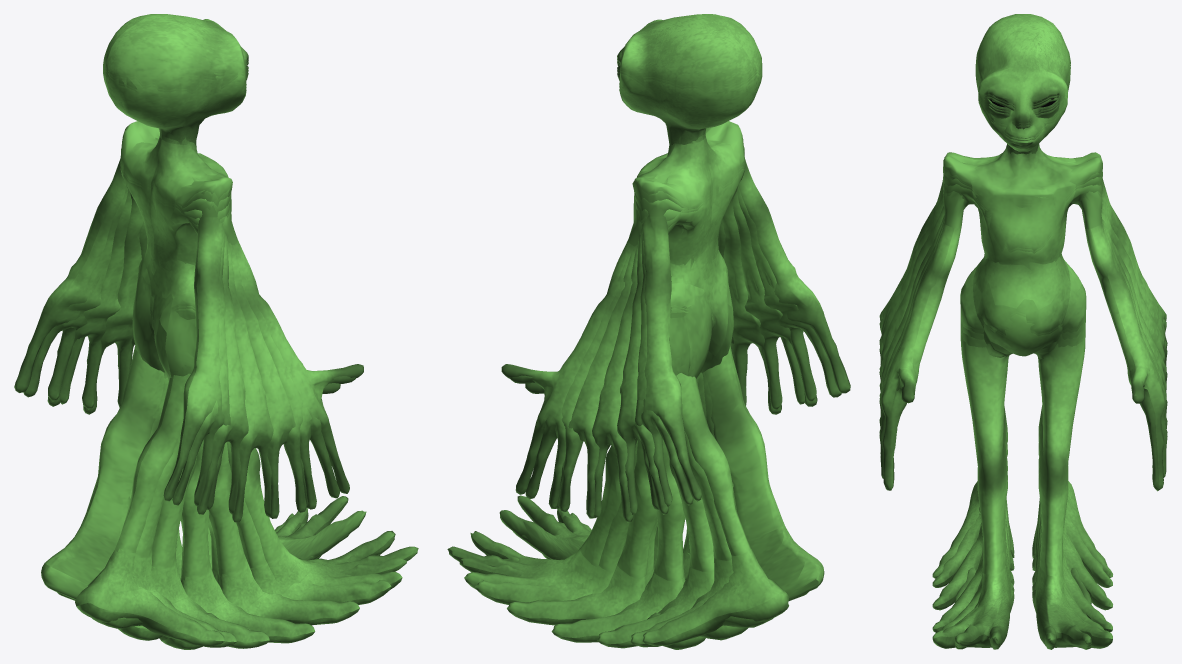
Rendered from mimozemstan.glb.
3 views of the same model, side by side, from view 1: azimuth 30°, elevation 25°; view 2: azimuth 150°, elevation 25°; view 3: azimuth 270°, elevation 25° (orthographic). The views are drawn at different scales.
Visible parts, largest first — view 1: mimozemstan_nohy_ruce_03, mimozemstan_nohy_ruce_09, mimozemstan_nohy_ruce_00, mimozemstan_telo_03, mimozemstan_nohy_ruce_07, mimozemstan_nohy_ruce_01, mimozemstan_nohy_ruce_08, mimozemstan_telo_00, mimozemstan_nohy_ruce_02, mimozemstan_telo_01, mimozemstan_telo_02; view 2: mimozemstan_nohy_ruce_09, mimozemstan_nohy_ruce_03, mimozemstan_nohy_ruce_00, mimozemstan_telo_03, mimozemstan_nohy_ruce_01, mimozemstan_nohy_ruce_07, mimozemstan_nohy_ruce_02, mimozemstan_telo_00, mimozemstan_nohy_ruce_08, mimozemstan_telo_01, mimozemstan_telo_02; view 3: mimozemstan_nohy_ruce_03, mimozemstan_nohy_ruce_09, mimozemstan_telo_03, mimozemstan_nohy_ruce_00, mimozemstan_nohy_ruce_01, mimozemstan_nohy_ruce_07, mimozemstan_telo_00, mimozemstan_nohy_ruce_02, mimozemstan_nohy_ruce_08, mimozemstan_telo_01, mimozemstan_telo_02.
Part boxes in pixels (x1=…): mimozemstan_nohy_ruce_03: x1=41, y1=164, x2=418, y2=599; mimozemstan_nohy_ruce_09: x1=14, y1=121, x2=366, y2=646; mimozemstan_nohy_ruce_00: x1=83, y1=160, x2=315, y2=649; mimozemstan_telo_03: x1=103, y1=14, x2=248, y2=307; mimozemstan_nohy_ruce_07: x1=47, y1=149, x2=340, y2=648; mimozemstan_nohy_ruce_01: x1=120, y1=165, x2=359, y2=625; mimozemstan_nohy_ruce_08: x1=23, y1=139, x2=356, y2=647; mimozemstan_telo_00: x1=103, y1=61, x2=248, y2=315; mimozemstan_nohy_ruce_02: x1=57, y1=165, x2=406, y2=604; mimozemstan_telo_01: x1=103, y1=59, x2=248, y2=310; mimozemstan_telo_02: x1=103, y1=58, x2=248, y2=307; mimozemstan_nohy_ruce_09: x1=447, y1=163, x2=824, y2=599; mimozemstan_nohy_ruce_03: x1=499, y1=121, x2=850, y2=645; mimozemstan_nohy_ruce_00: x1=551, y1=157, x2=781, y2=649; mimozemstan_telo_03: x1=617, y1=14, x2=762, y2=307; mimozemstan_nohy_ruce_01: x1=525, y1=146, x2=817, y2=648; mimozemstan_nohy_ruce_07: x1=507, y1=165, x2=745, y2=625; mimozemstan_nohy_ruce_02: x1=509, y1=139, x2=841, y2=647; mimozemstan_telo_00: x1=617, y1=61, x2=762, y2=313; mimozemstan_nohy_ruce_08: x1=459, y1=165, x2=808, y2=604; mimozemstan_telo_01: x1=617, y1=59, x2=762, y2=310; mimozemstan_telo_02: x1=617, y1=58, x2=762, y2=307; mimozemstan_nohy_ruce_03: x1=879, y1=152, x2=1167, y2=648; mimozemstan_nohy_ruce_09: x1=879, y1=152, x2=1167, y2=648; mimozemstan_telo_03: x1=965, y1=14, x2=1081, y2=309; mimozemstan_nohy_ruce_00: x1=879, y1=181, x2=1167, y2=632; mimozemstan_nohy_ruce_01: x1=879, y1=173, x2=1167, y2=649; mimozemstan_nohy_ruce_07: x1=879, y1=172, x2=1167, y2=649; mimozemstan_telo_00: x1=972, y1=67, x2=1075, y2=314; mimozemstan_nohy_ruce_02: x1=879, y1=169, x2=1167, y2=648; mimozemstan_nohy_ruce_08: x1=879, y1=166, x2=1167, y2=648; mimozemstan_telo_01: x1=972, y1=65, x2=1075, y2=270; mimozemstan_telo_02: x1=972, y1=63, x2=1075, y2=270.
Bounding box in the file's own units: 0.832 × 1.53 × 0.6927.
Materials: 2 (1 with a texture image).
